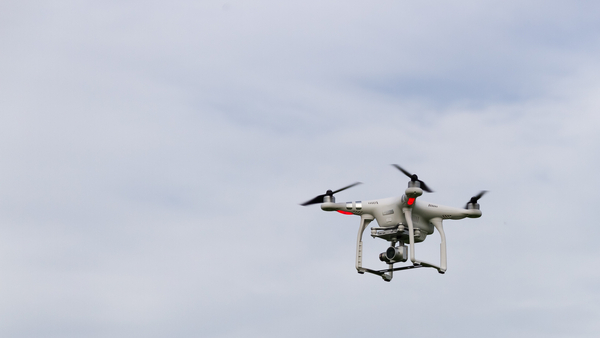drone: (297, 162, 491, 286)
